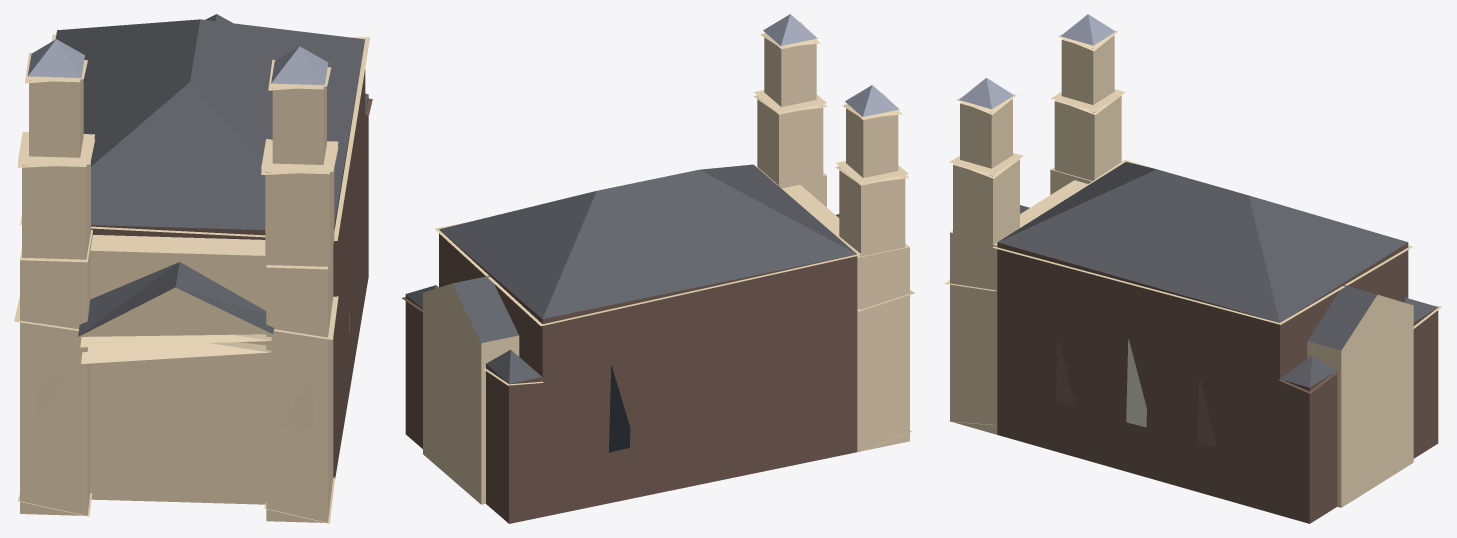
Rendered from mozes-en-aaronkerk.lod2.glb.
3 renders of one model, left to right at view 1: azimuth 30°, elevation 25°; view 2: azimuth 150°, elevation 25°; view 3: azimuth 270°, elevation 25°, orthographic. The views are drawn at different scales.
Visible parts, largest first — view 1: lod2; view 2: lod2; view 3: lod2.
Boxes of the visible parts, box(x1,y1,x2,y2) form: lod2: box(14, 14, 372, 523); lod2: box(401, 14, 915, 523); lod2: box(944, 14, 1441, 523).
Size of the model in its own units: 44.21 by 37.7 by 49.7.
